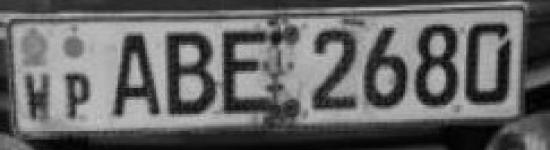0: (462, 19, 514, 112)
2: (302, 23, 362, 114)
6: (364, 21, 410, 116)
8: (410, 20, 462, 113)
A: (103, 29, 163, 120)
B: (163, 28, 218, 120)
E: (218, 26, 282, 122)
P: (59, 67, 98, 124)
W: (20, 69, 60, 125)
